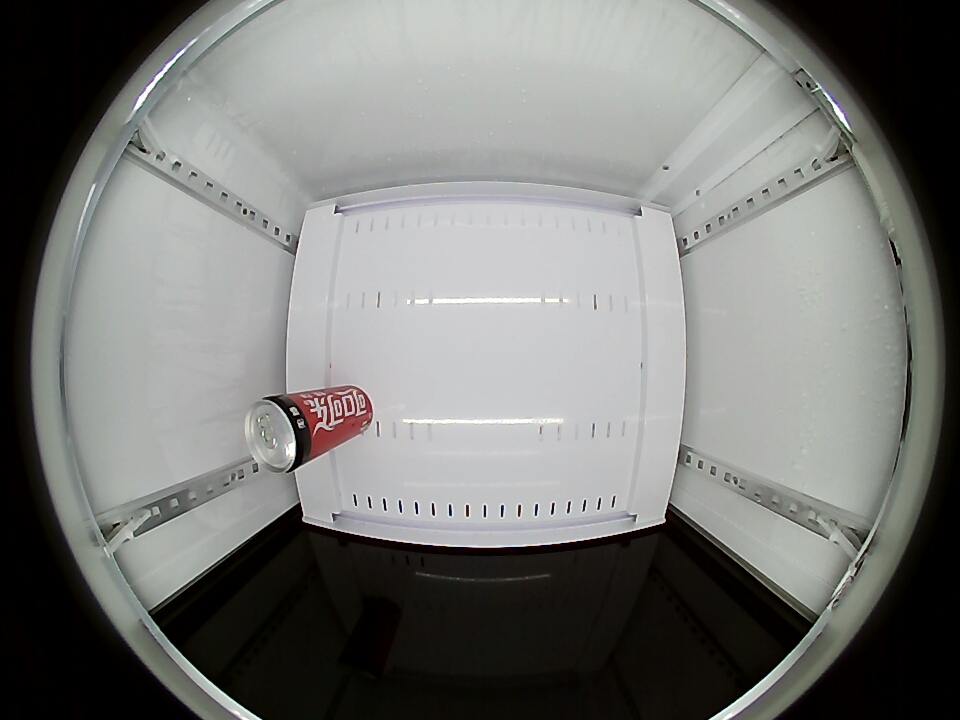lingdukele: (245, 394, 319, 474)
